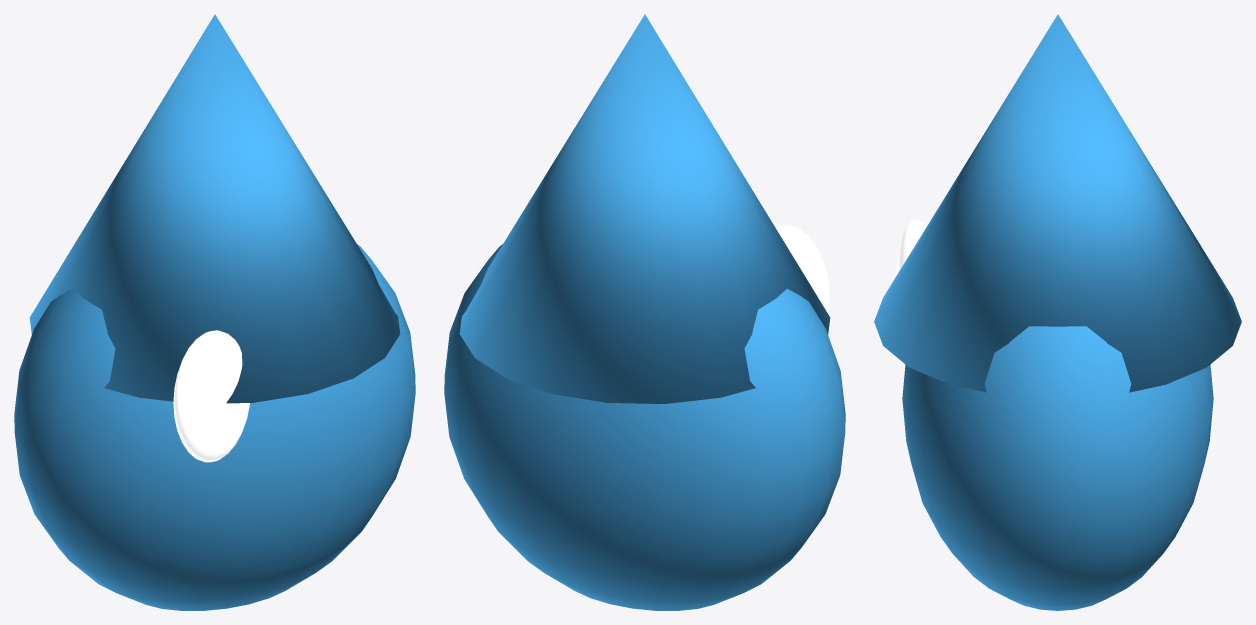
The model's file is icon_water.glb.
3 renders of one model, left to right at view 1: azimuth 30°, elevation 25°; view 2: azimuth 150°, elevation 25°; view 3: azimuth 270°, elevation 25°, orthographic.
Visible parts, largest first — view 1: icon_water; view 2: icon_water; view 3: icon_water.
Boxes of the visible parts, left/top/right/bottom form: icon_water: left=14, top=14, right=415, bottom=610; icon_water: left=444, top=14, right=845, bottom=610; icon_water: left=874, top=14, right=1241, bottom=610.
Size of the model in its own units: 0.3 by 0.45 by 0.26.
